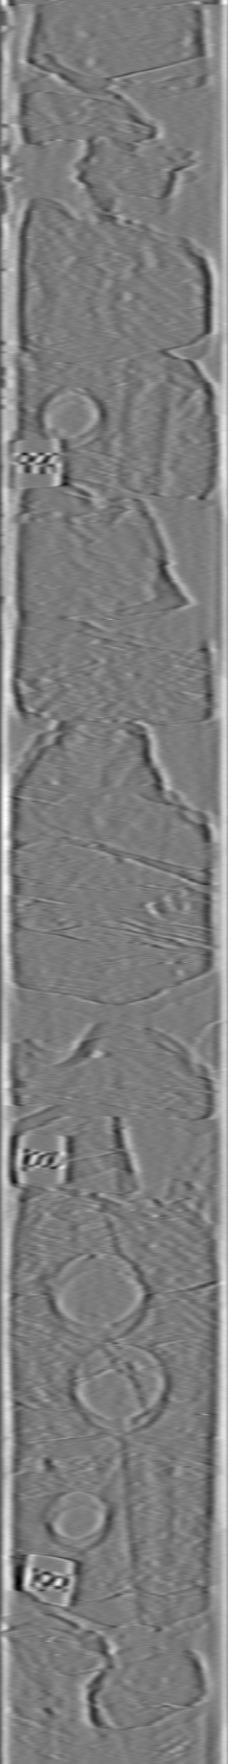hplug: (29, 377, 104, 454), (39, 1489, 118, 1552), (22, 1030, 103, 1072)
scal: (43, 1246, 152, 1343), (69, 1343, 174, 1434)
vplug: (115, 1437, 176, 1624), (112, 354, 172, 494)
